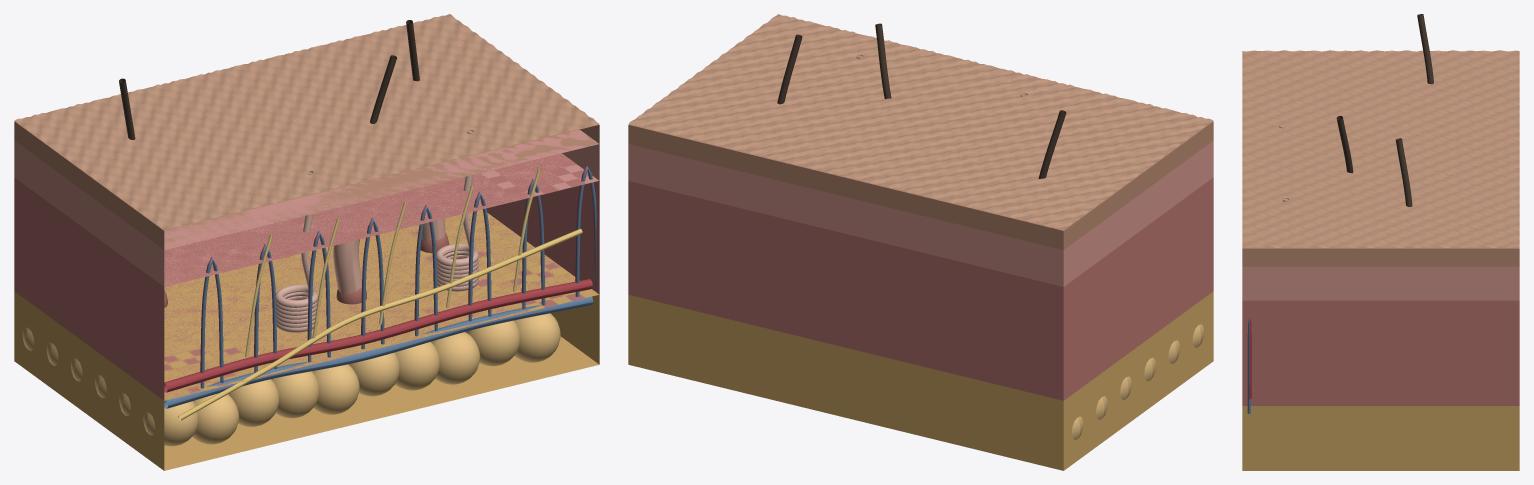
The model's file is skin-cross-section.glb.
3 views of the same model, side by side, from view 1: azimuth 30°, elevation 25°; view 2: azimuth 150°, elevation 25°; view 3: azimuth 270°, elevation 25° (orthographic). The views are drawn at different scales.
Visible parts, largest first — view 1: Skin microrelief, Reticular dermis, Subcutaneous tissue, Papillary dermis, Adipose lobules, Epidermis, Capillary loops (×2), Dermal vessels (×2), Coiled sweat gland, Sensory nerve, Sensory nerve endings, Hair follicle sheath (+3 smaller); view 2: Reticular dermis, Skin microrelief, Subcutaneous tissue, Papillary dermis, Epidermis, Hair shaft, Adipose lobules; view 3: Skin microrelief, Reticular dermis, Subcutaneous tissue, Papillary dermis, Epidermis, Hair shaft.
Boxes of the visible parts, x1,y1,x2,y2 form: Skin microrelief: (14, 14, 598, 229); Reticular dermis: (14, 153, 599, 400); Subcutaneous tissue: (14, 209, 599, 470); Papillary dermis: (14, 130, 599, 286); Adipose lobules: (22, 313, 560, 446); Epidermis: (14, 21, 599, 249); Capillary loops (×2): (200, 166, 596, 388); Dermal vessels (×2): (164, 279, 593, 408); Coiled sweat gland: (276, 243, 478, 332); Sensory nerve: (178, 228, 582, 420); Sensory nerve endings: (245, 169, 540, 357); Hair follicle sheath: (333, 218, 445, 293); Reticular dermis: (628, 177, 1213, 400); Skin microrelief: (629, 14, 1213, 229); Subcutaneous tissue: (628, 291, 1213, 470); Papillary dermis: (628, 141, 1213, 286); Epidermis: (628, 21, 1213, 250); Hair shaft: (777, 23, 1066, 178); Adipose lobules: (1071, 324, 1204, 439); Skin microrelief: (1242, 50, 1519, 248); Reticular dermis: (1242, 300, 1519, 405); Subcutaneous tissue: (1242, 406, 1519, 470); Papillary dermis: (1242, 266, 1519, 300); Epidermis: (1242, 53, 1519, 266); Hair shaft: (1336, 14, 1433, 206).
Size of the model in its own units: 3.35 by 2.23 by 1.97.
